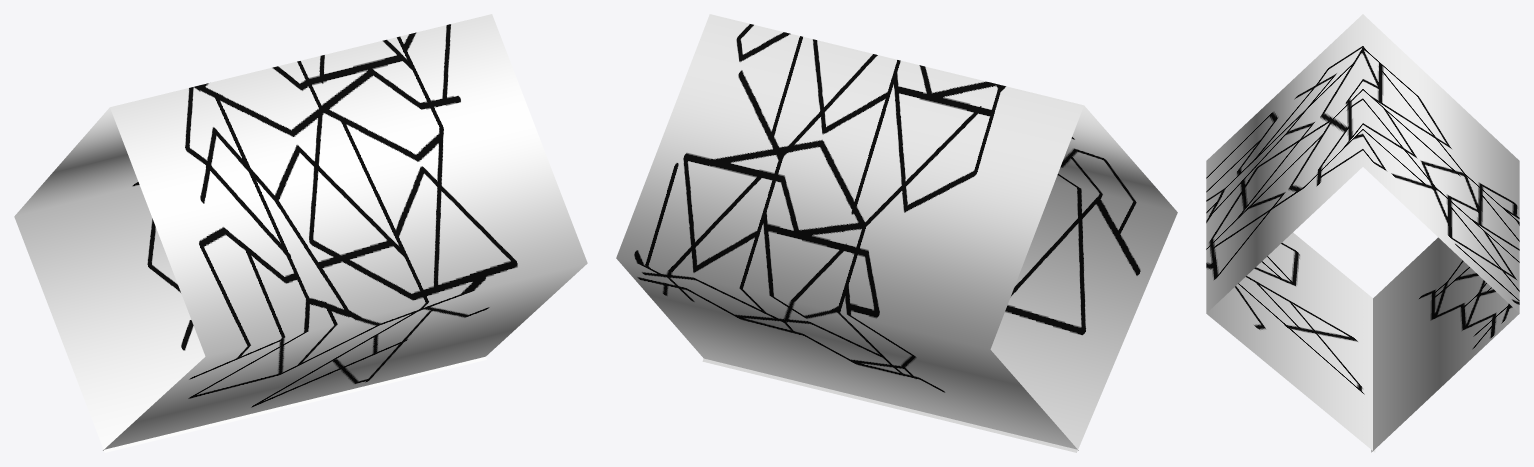
The model's file is Pline3.fbx.
The picture shows the model from 3 angles, left to right: view 1: azimuth 30°, elevation 25°; view 2: azimuth 150°, elevation 25°; view 3: azimuth 270°, elevation 25°; orthographic projection. The views are drawn at different scales.
Visible parts, largest first — view 1: pPlane1; view 2: pPlane1; view 3: pPlane1.
Boxes of the visible parts, bbox=[...] form: pPlane1: bbox=[14, 14, 587, 452]; pPlane1: bbox=[616, 14, 1177, 452]; pPlane1: bbox=[1206, 14, 1519, 452].
Bounding box in the file's own units: 2.79 × 2.44 × 2.42.
Materials: 1 (1 with a texture image).
